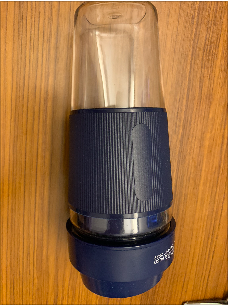Nonfood: (69, 8, 177, 287)
